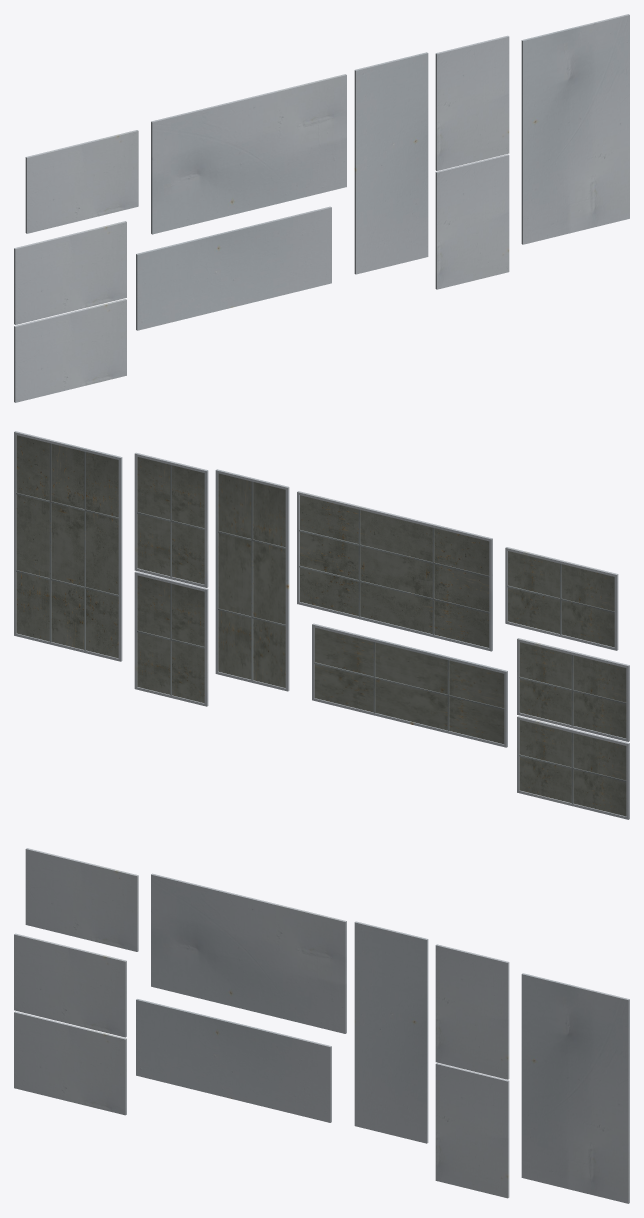
The model's file is signboardblank_set3.fbx.
3 views of the same model, one above another, from view 1: azimuth 30°, elevation 25°; view 2: azimuth 150°, elevation 25°; view 3: azimuth 330°, elevation 25° (orthographic).
Visible parts, largest first — view 1: signboardblank_set3; view 2: signboardblank_set3; view 3: signboardblank_set3.
Boxes of the visible parts, x1,y1,x2,y2 form: signboardblank_set3: [14, 14, 629, 402]; signboardblank_set3: [14, 431, 629, 819]; signboardblank_set3: [14, 848, 629, 1203].
Bounding box in the file's own units: 741 × 287 × 2.82.
